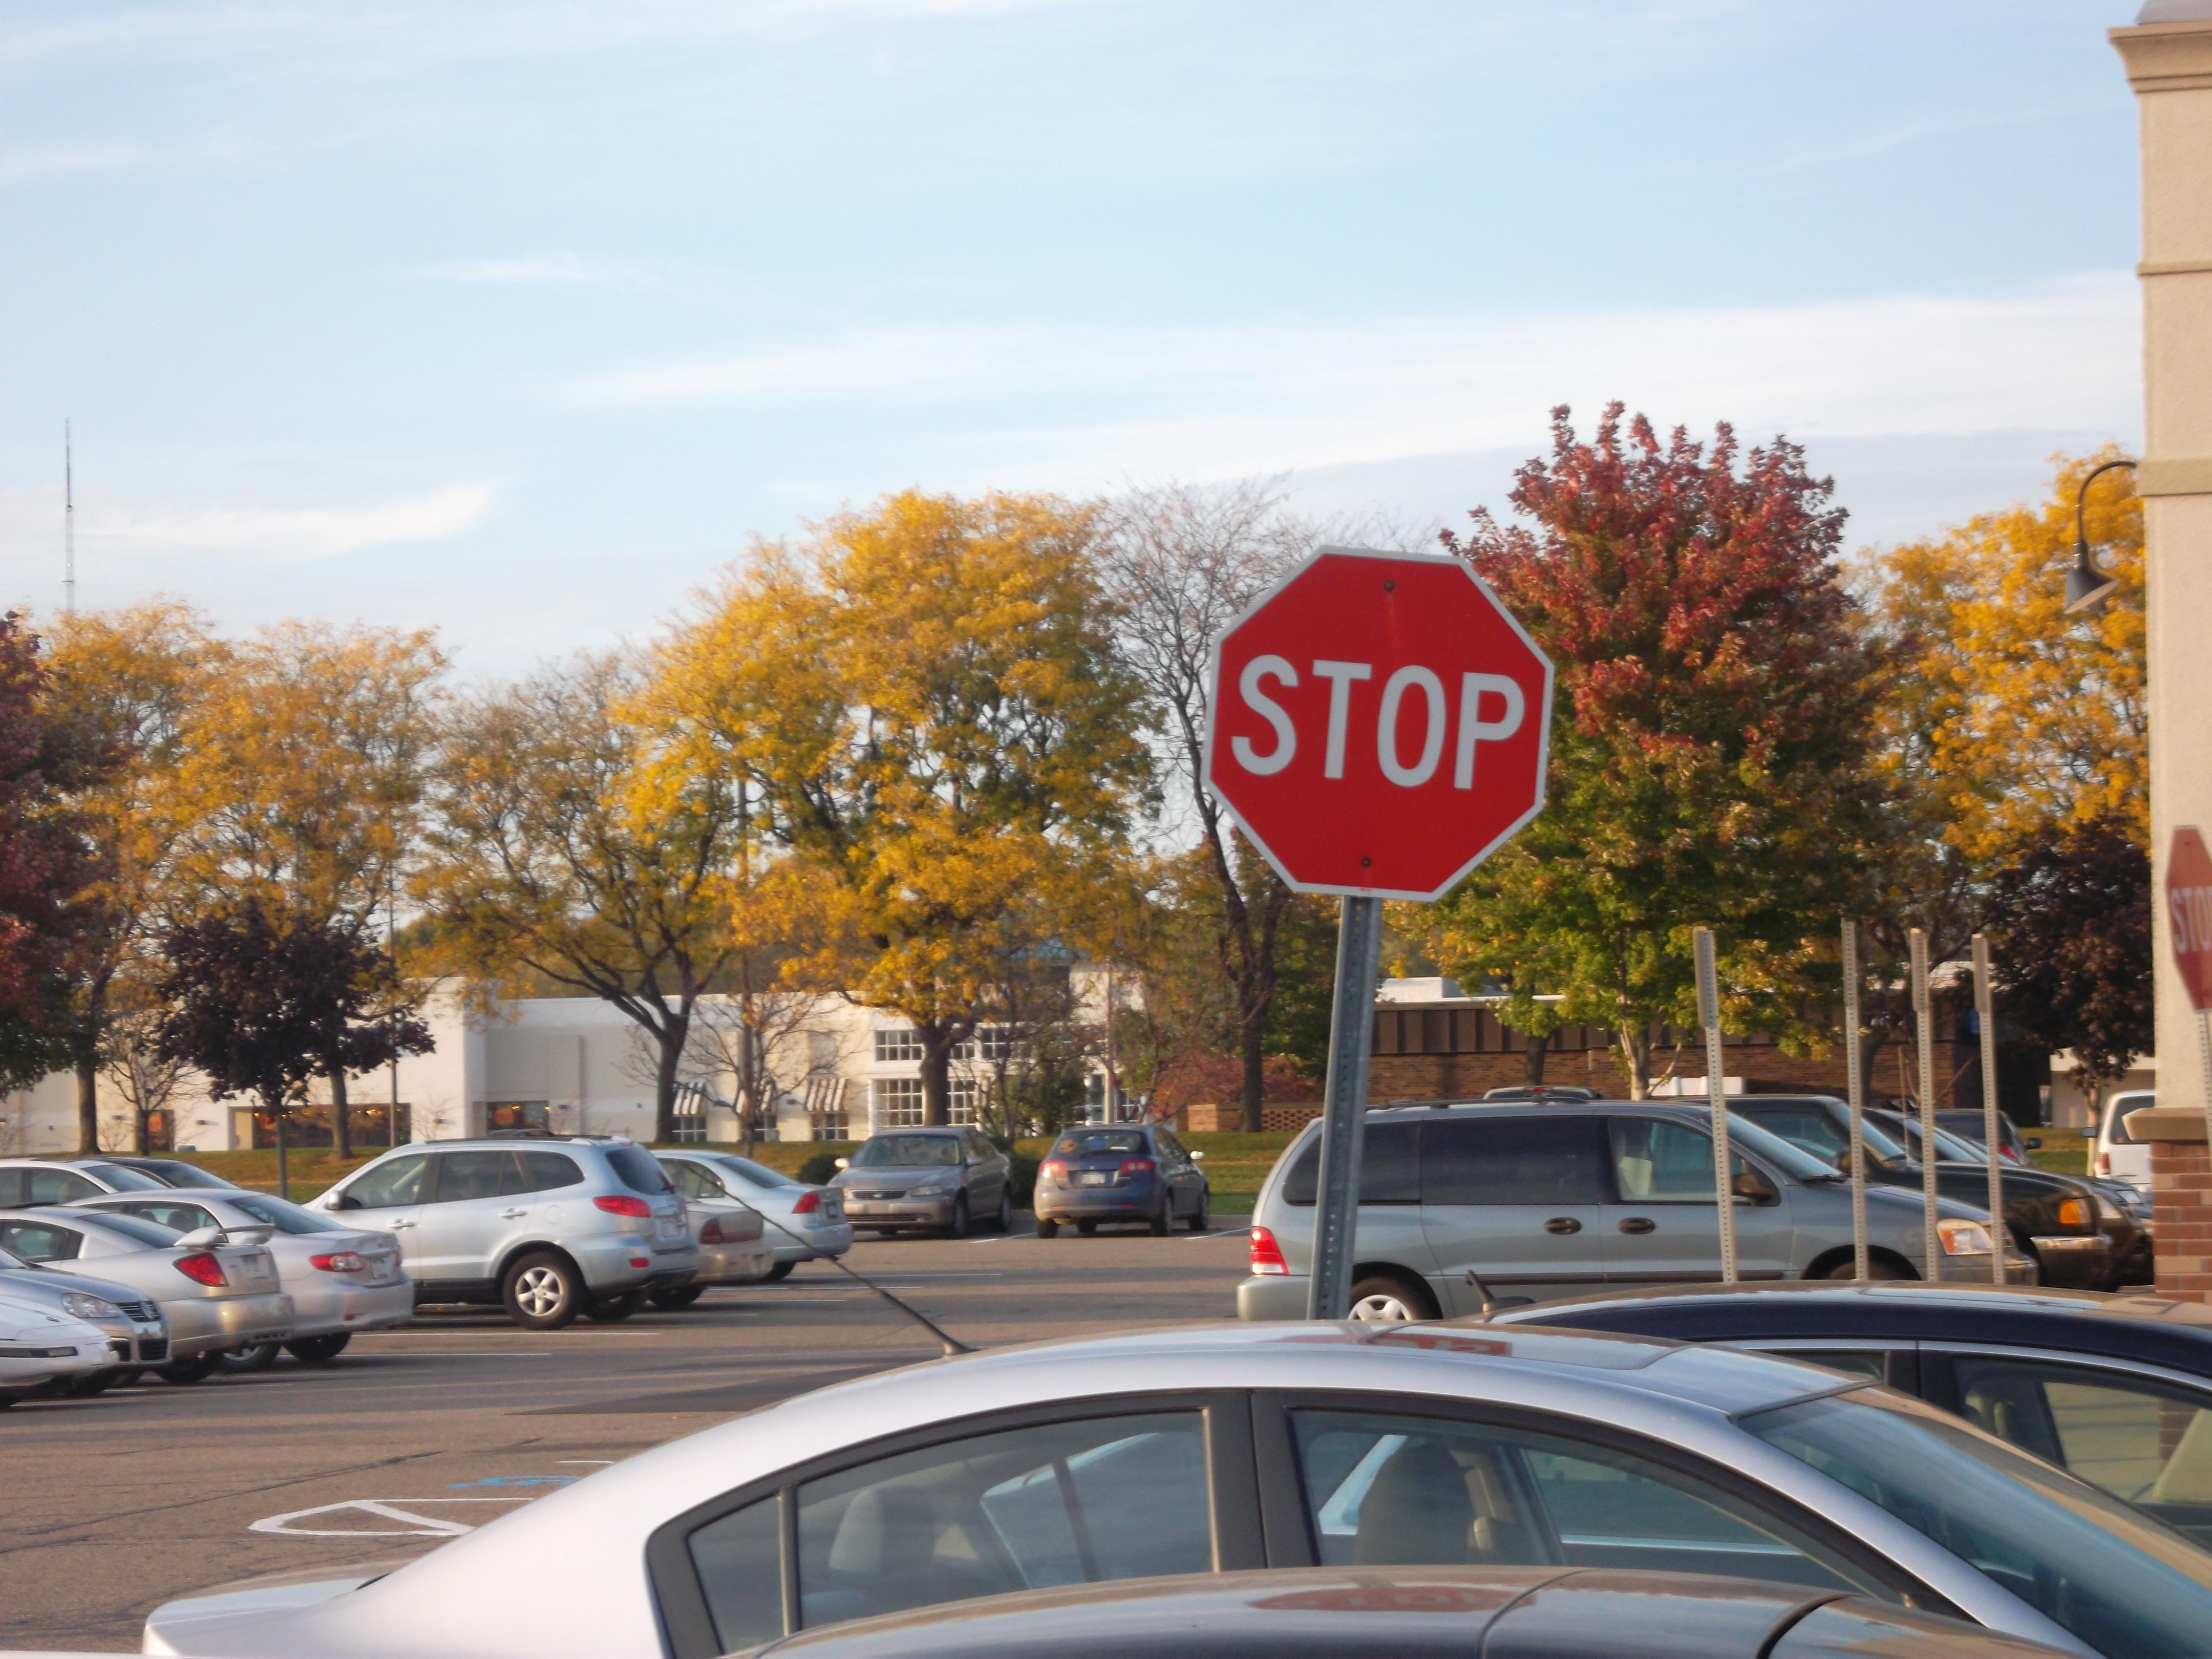stop: (1202, 545, 1552, 906)
